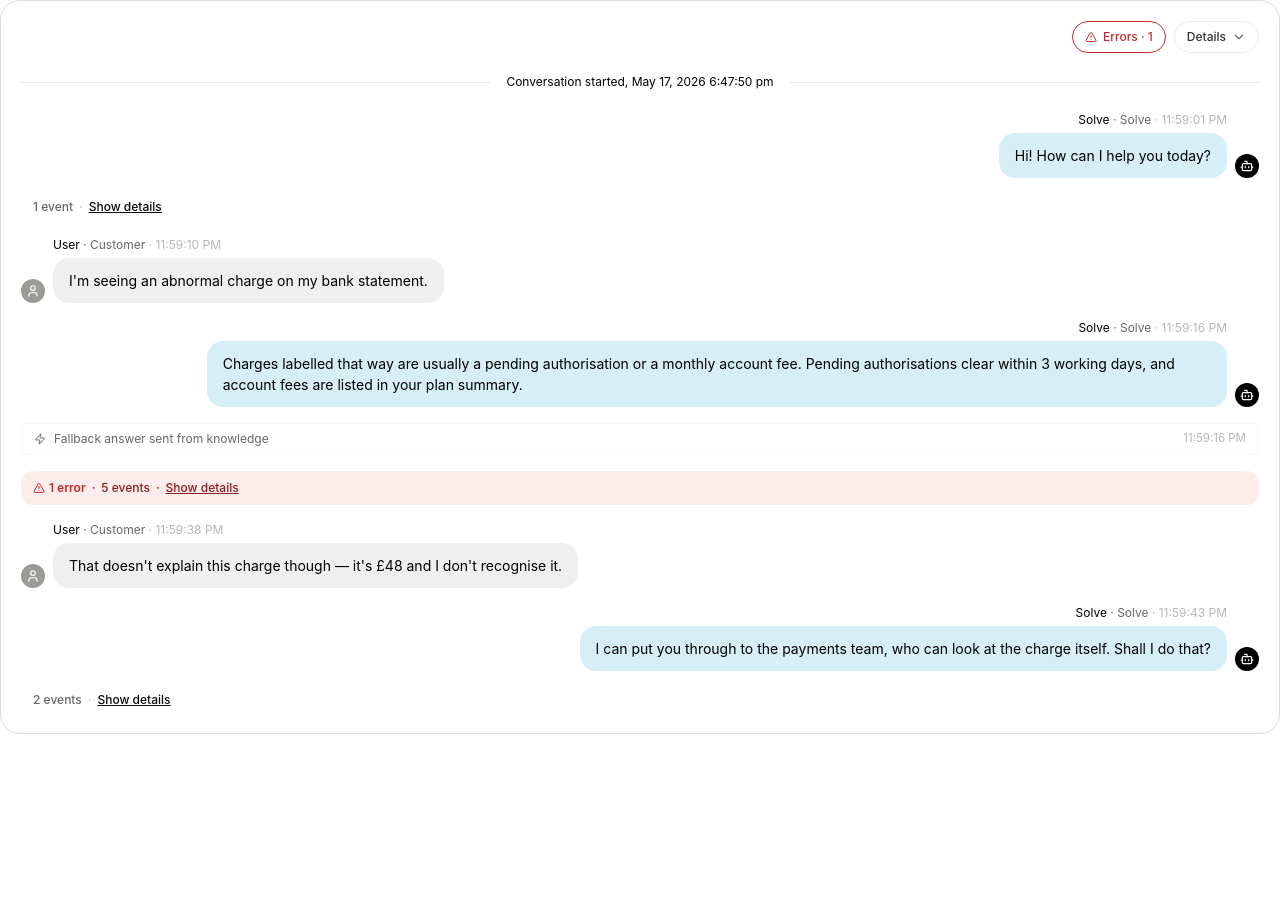
it: TranscriptBody › offers a one-click Errors shortcut next to Details, and jumps straight to the failing exchanges
This screenshot has width=1280, height=900.
Click the button "Errors · 1".
click(1119, 37)  # box [1072,21,1166,53]
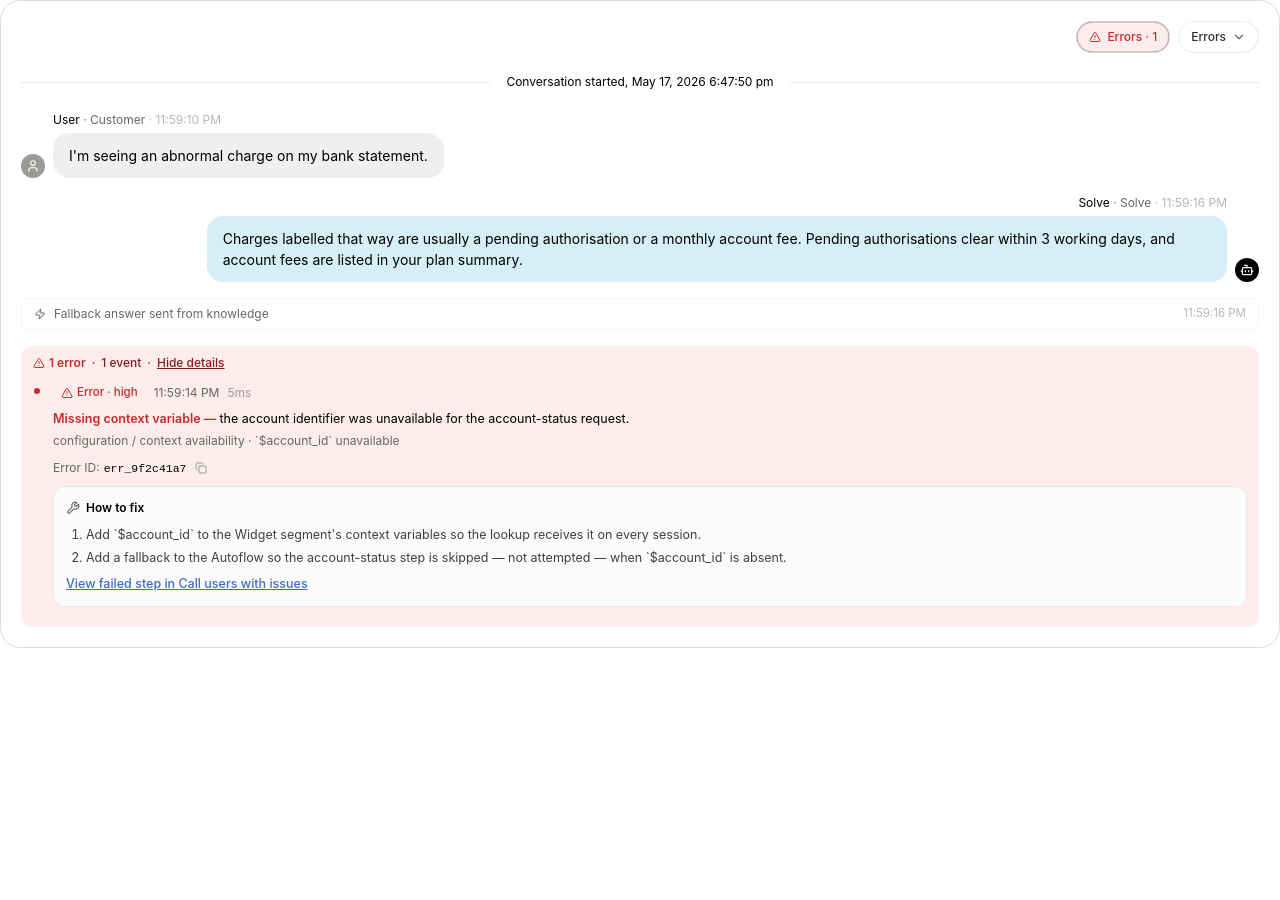
Now the element with test id "exchange-0" is gone
Now the element with test id "exchange-2" is gone
Now the text "the account identifier was unavailable" is shown, box [219,411,629,426]
